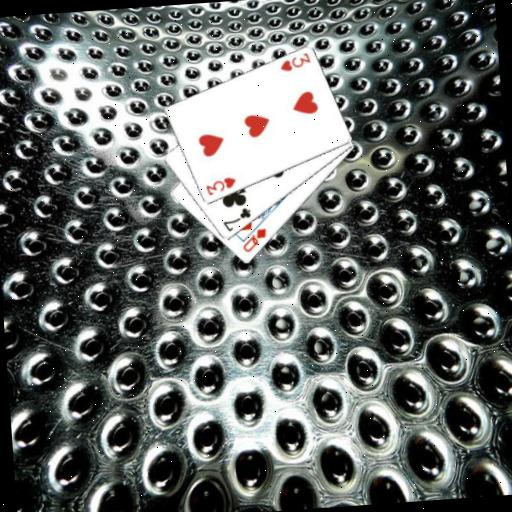3H: (202, 174, 238, 198), (276, 50, 312, 74)
7C: (220, 205, 254, 234)
QD: (239, 225, 270, 254)
